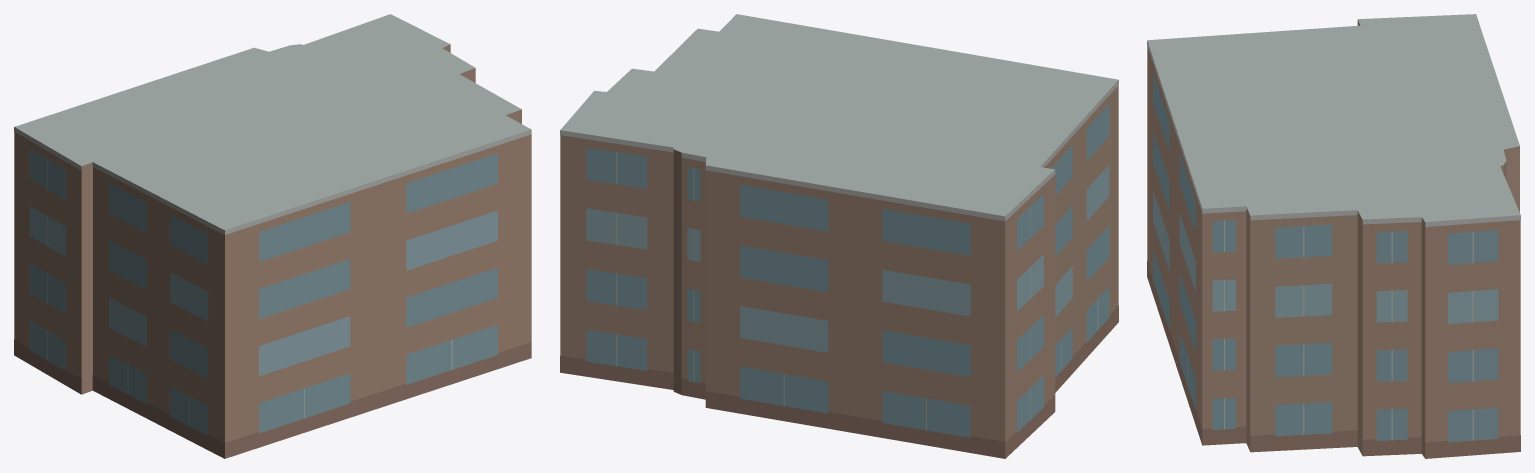
The model's file is survey-upis-32676078.glb.
3 views of the same model, side by side, from view 1: azimuth 30°, elevation 25°; view 2: azimuth 150°, elevation 25°; view 3: azimuth 270°, elevation 25° (orthographic). The views are drawn at different scales.
Parts seen in each view (by area): view 1: survey-upis-32676078.tmp; view 2: survey-upis-32676078.tmp; view 3: survey-upis-32676078.tmp.
Boxes of the visible parts, bbox=[...] form: survey-upis-32676078.tmp: bbox=[14, 14, 531, 458]; survey-upis-32676078.tmp: bbox=[560, 14, 1118, 458]; survey-upis-32676078.tmp: bbox=[1147, 14, 1520, 458].
Bounding box in the file's own units: 22.41 × 11.87 × 17.
